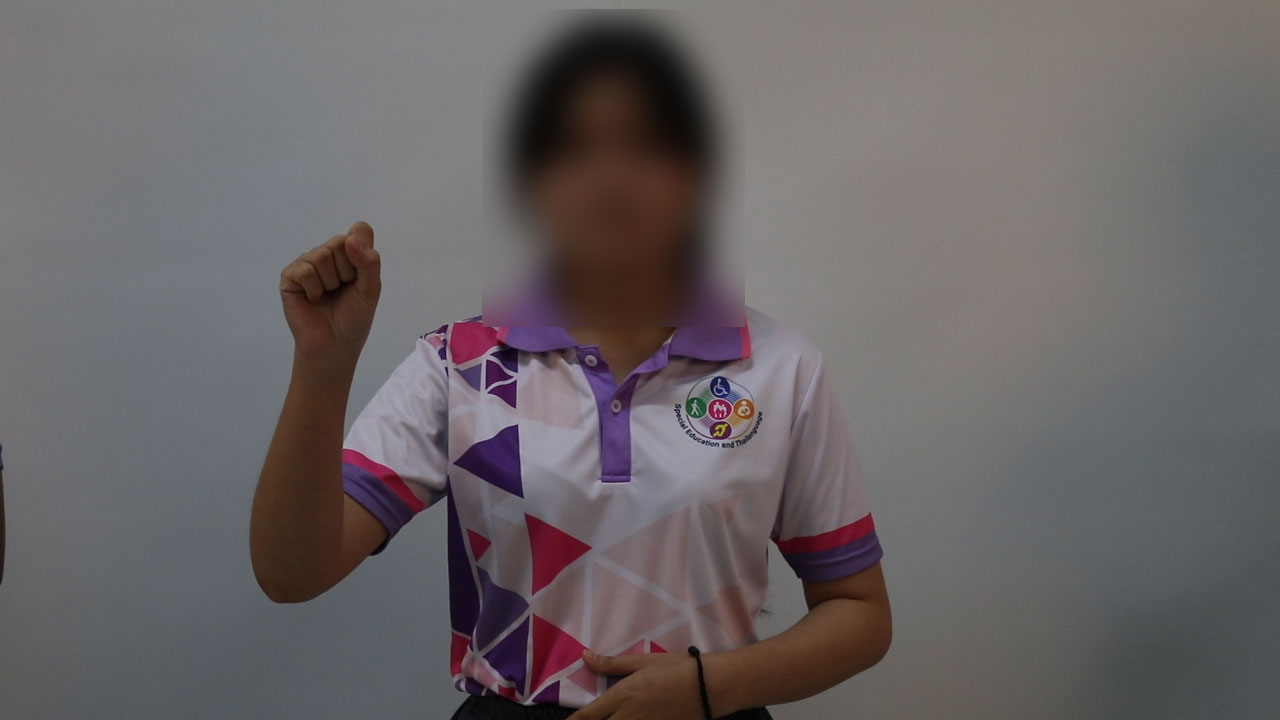sor: (260, 212, 400, 371)
